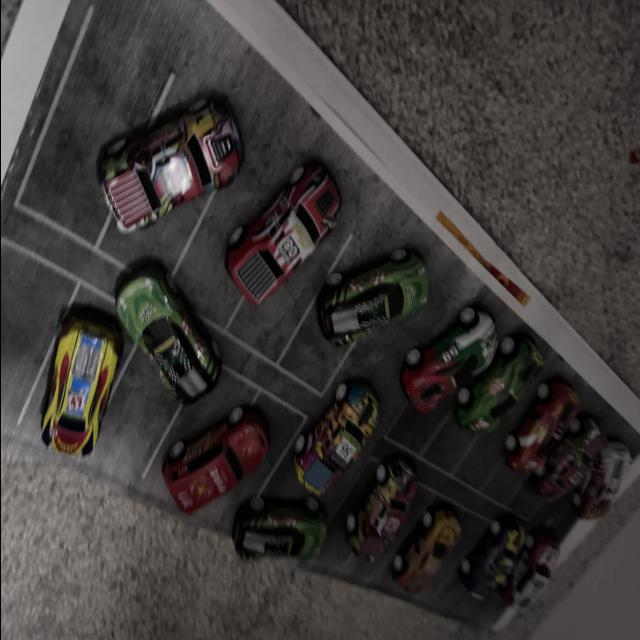Car: (13, 278, 168, 491), (73, 46, 235, 235), (148, 374, 282, 538), (230, 148, 364, 304), (110, 263, 222, 407), (401, 306, 537, 409), (316, 249, 434, 351), (342, 461, 426, 603), (235, 477, 344, 573), (382, 481, 465, 604), (148, 324, 226, 436), (306, 390, 398, 482), (538, 405, 614, 497), (468, 498, 532, 606), (480, 324, 560, 407), (524, 375, 576, 453), (494, 566, 546, 634)
